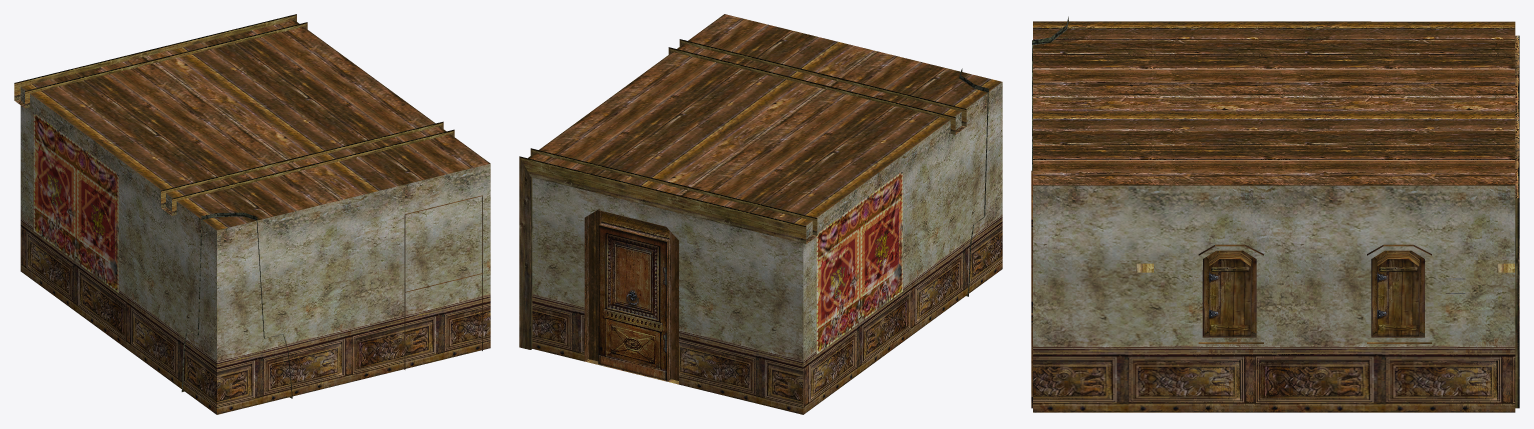
3 views of the same model, side by side, from view 1: azimuth 30°, elevation 25°; view 2: azimuth 150°, elevation 25°; view 3: azimuth 270°, elevation 25° (orthographic). The views are drawn at different scales.
Visible parts, largest first — view 1: tn2_r2_in-col; view 2: tn2_r2_in-col; view 3: tn2_r2_in-col.
Boxes of the visible parts, x1,y1,x2,y2 form: tn2_r2_in-col: (14,14,490,414); tn2_r2_in-col: (519,14,1002,414); tn2_r2_in-col: (1031,16,1519,412).
Size of the model in its own units: 4.74 by 3.02 by 5.7.
19 materials, 19 textured.
